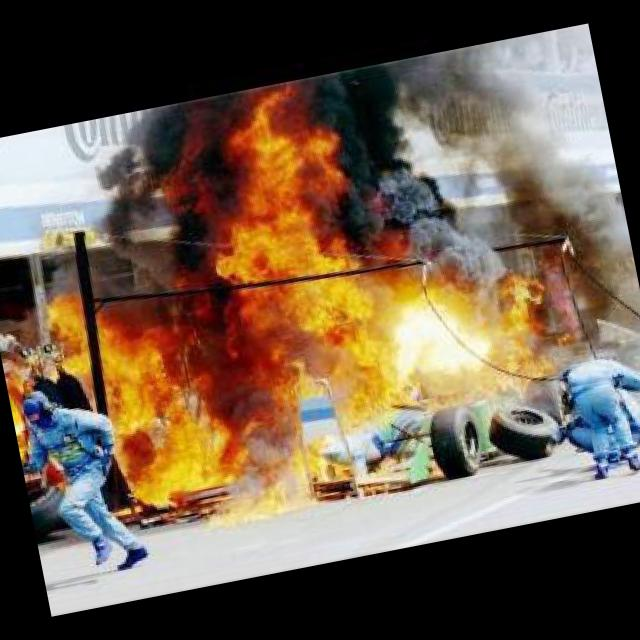Fire: (182, 53, 574, 456), (56, 96, 264, 430), (27, 255, 257, 544), (464, 55, 640, 344)
